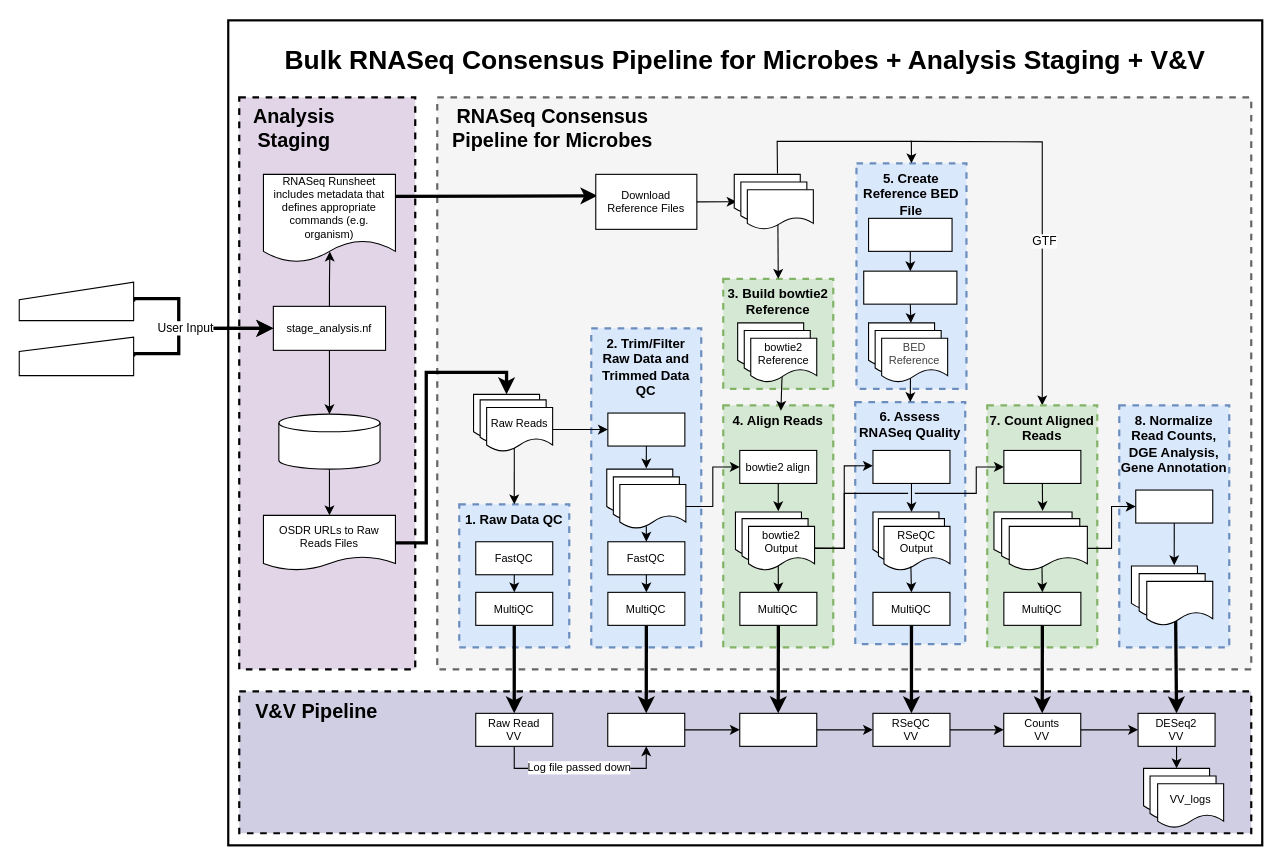
Image size: 1283x865. Some labels were removed from this diagram. The shapes that lost their labels are listed below. From the top down, each one's centre as x and y in pixels, then its label:
the point at 779,209: Reference Fasta/GTF
the point at 909,234: gtfToGenePred
the point at 76,301: --accession
the point at 910,287: genePredToBed
the point at 76,356: --ensemblVersion
the point at 329,441: OSDR API
the point at 646,429: TrimGalore!
the point at 911,466: RSeQC
the point at 1042,466: featureCounts
the point at 652,506: Trimmed Reads
the point at 1174,506: DESeq2
the point at 1047,547: featureCounts Output
the point at 1179,602: DESeq2 Output
the point at 646,729: Trimmed Read VV
the point at 778,729: Aligner VV
